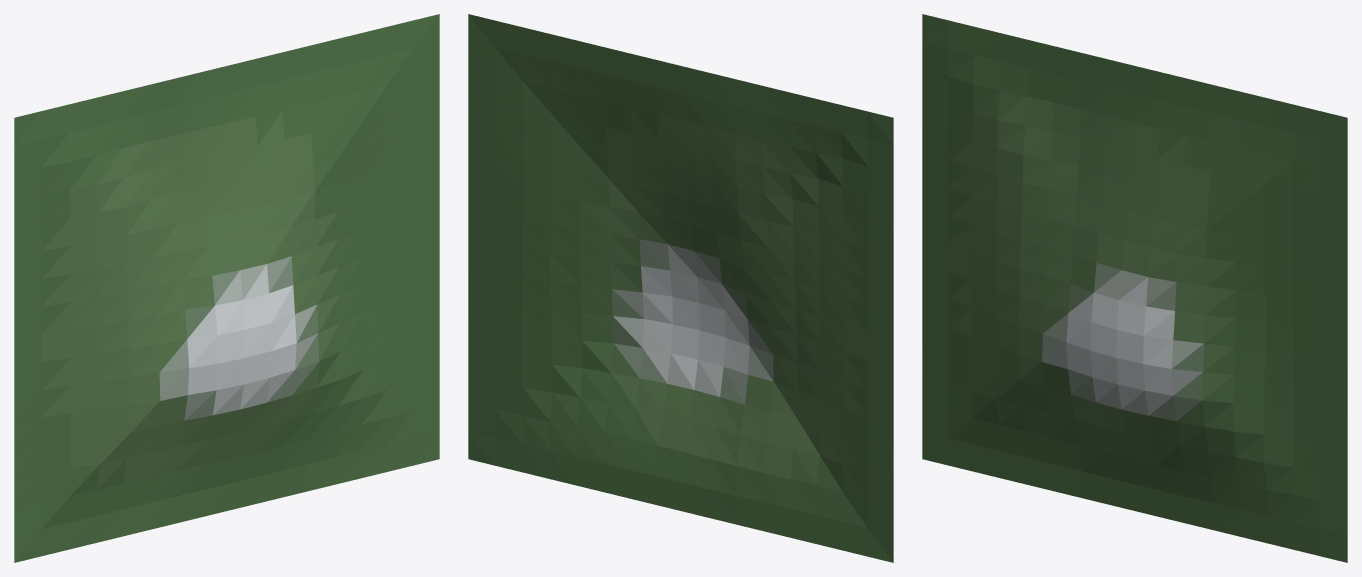
The model's file is shape_082_SVN_Terrain_2.glb.
3 renders of one model, left to right at view 1: azimuth 30°, elevation 25°; view 2: azimuth 150°, elevation 25°; view 3: azimuth 330°, elevation 25°, orthographic.
Visible parts, largest first — view 1: SVN terrain 2; view 2: SVN terrain 2; view 3: SVN terrain 2.
Boxes of the visible parts, <box> form: SVN terrain 2: <box>14,14,439,562</box>; SVN terrain 2: <box>468,14,893,562</box>; SVN terrain 2: <box>922,14,1347,562</box>.
Size of the model in its own units: 4096 by 4096 by 314.
